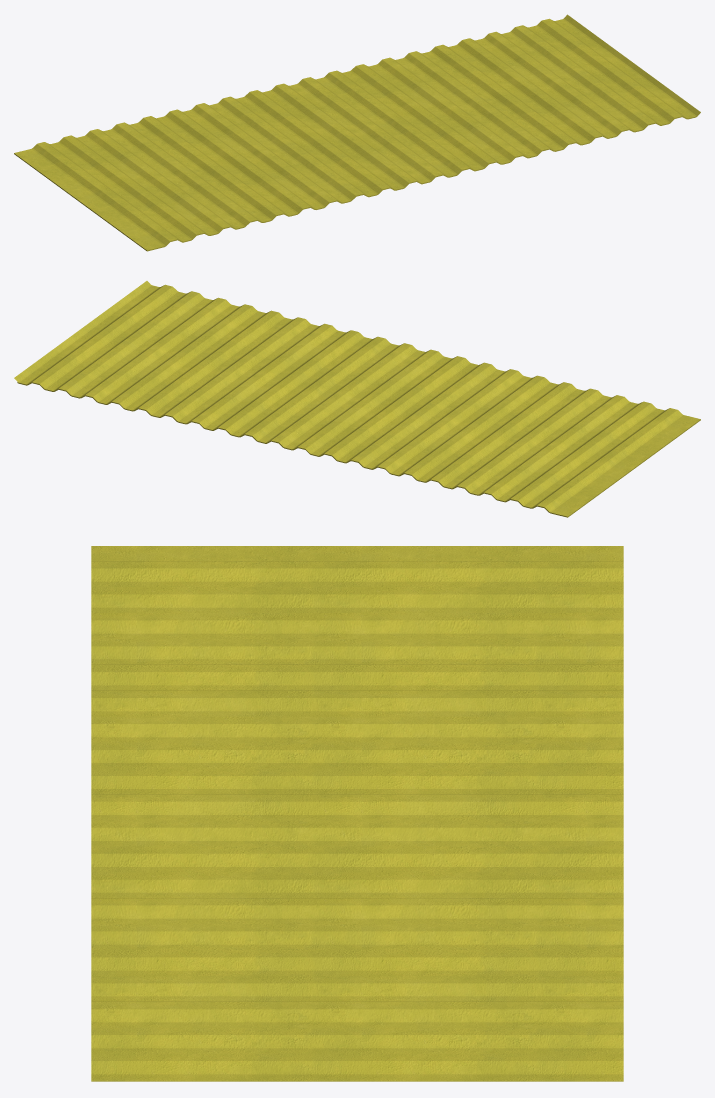
The model's file is ceiling-sprayfoam.glb.
The picture shows the model from 3 angles, top to bottom: view 1: azimuth 30°, elevation 25°; view 2: azimuth 150°, elevation 25°; view 3: azimuth 270°, elevation 25°; orthographic projection. The views are drawn at different scales.
Visible parts, largest first — view 1: 20FT HC Sprayfoam_Ceiling; view 2: 20FT HC Sprayfoam_Ceiling; view 3: 20FT HC Sprayfoam_Ceiling.
Boxes of the visible parts, left/top/right/bottom form: 20FT HC Sprayfoam_Ceiling: left=14, top=14, right=700, bottom=251; 20FT HC Sprayfoam_Ceiling: left=14, top=281, right=700, bottom=517; 20FT HC Sprayfoam_Ceiling: left=91, top=546, right=623, bottom=1081.
Bounding box in the file's own units: 5.69 × 0.0465 × 2.37.
1 material, 1 textured.
